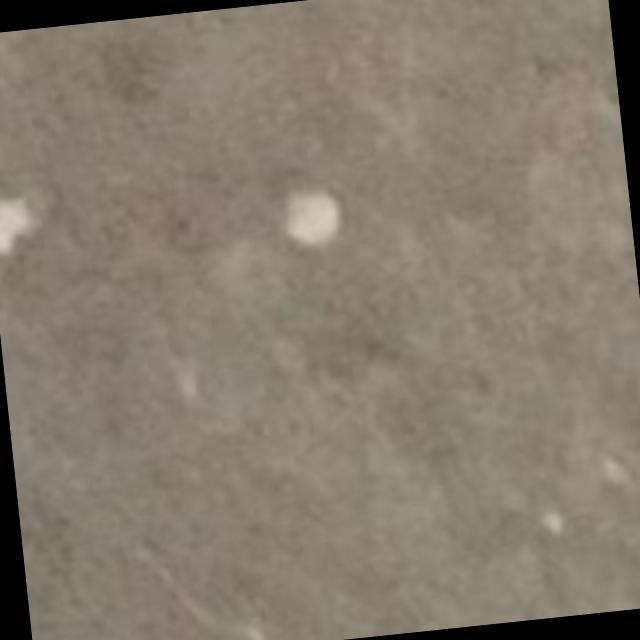peeling plaster: (281, 189, 341, 250)
